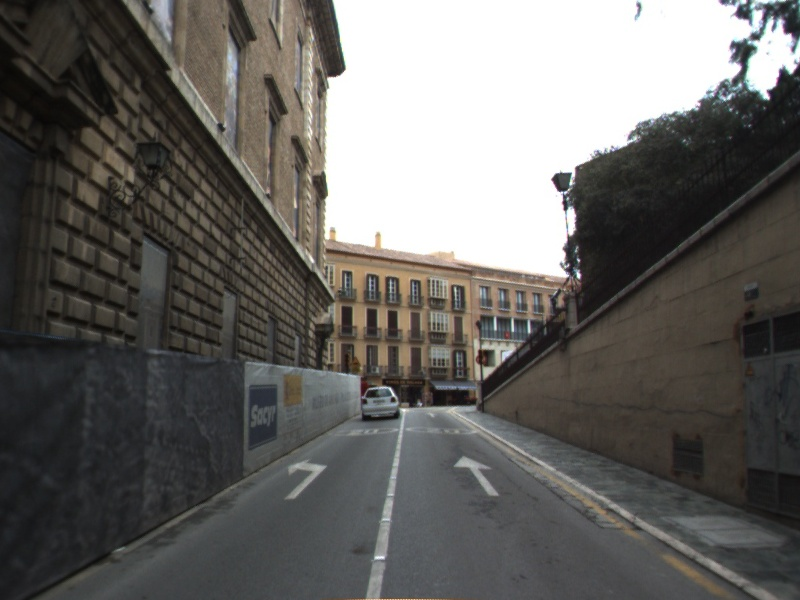LEFT: (283, 458, 329, 501)
STRAIGHT: (452, 453, 501, 497), (423, 410, 439, 419)
